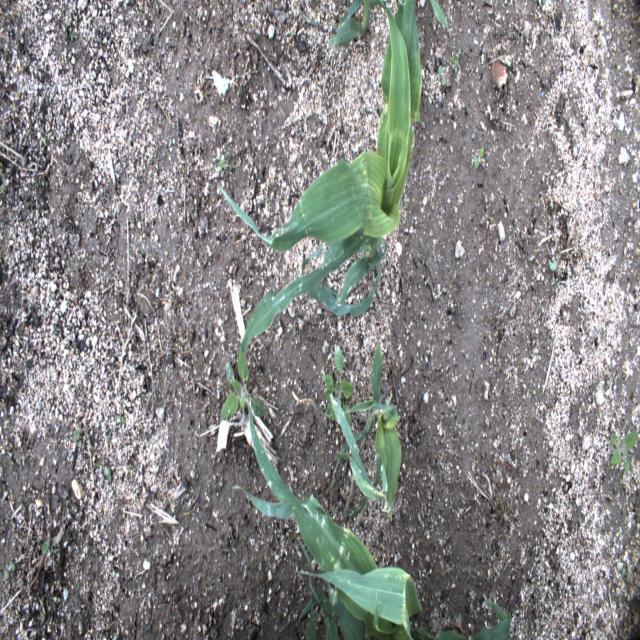crop: (216, 0, 449, 354), (231, 393, 512, 639), (329, 341, 402, 524)
weed: (216, 343, 270, 423), (323, 341, 354, 428), (609, 430, 639, 478), (36, 523, 56, 558), (471, 146, 485, 170), (451, 46, 461, 74), (437, 64, 446, 84)
